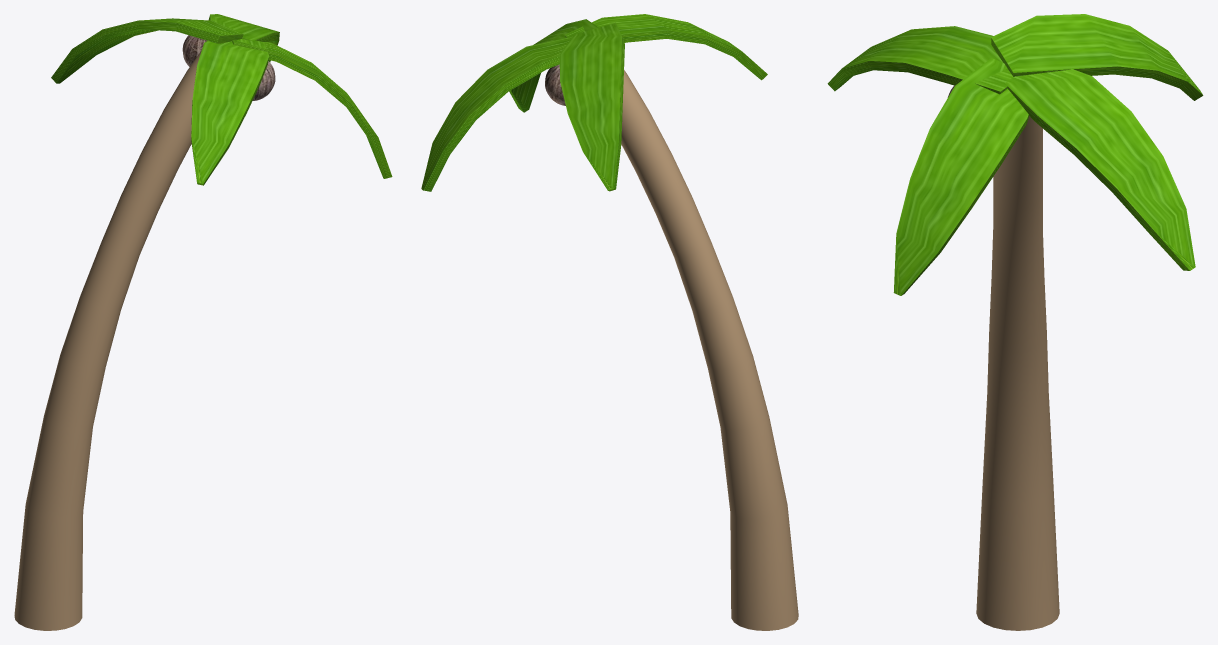
Rendered from PalmTree_3.fbx.
3 views of the same model, side by side, from view 1: azimuth 30°, elevation 25°; view 2: azimuth 150°, elevation 25°; view 3: azimuth 270°, elevation 25° (orthographic). The views are drawn at different scales.
Parts seen in each view (by area): view 1: Trunk, Palm3, Palm2, Palm4, Palm1; view 2: Trunk, Palm2, Palm1, Palm3, Palm4, pSphere2; view 3: Trunk, Palm4, Palm1, Palm2, Palm3.
Boxes of the visible parts, x1,y1,x2,y2 form: Trunk: (14,50,201,630); Palm3: (191,38,269,185); Palm2: (51,18,243,83); Palm4: (232,40,392,178); Palm1: (208,14,279,62); Trunk: (621,70,798,630); Palm2: (559,22,624,191); Palm1: (421,36,572,191); Palm3: (564,14,767,80); Palm4: (509,19,598,112); pSphere2: (545,64,565,105); Trunk: (976,116,1059,630); Palm4: (893,58,1029,295); Palm1: (1005,68,1195,270); Palm2: (991,14,1203,100); Palm3: (827,26,1013,94).
Bounding box in the file's own units: 6.71 × 10.95 × 5.5.
3 materials, 2 textured.
